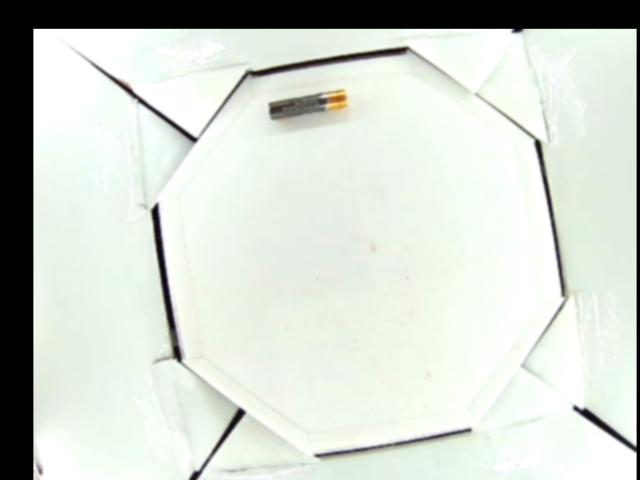Battery: (268, 89, 347, 123)
